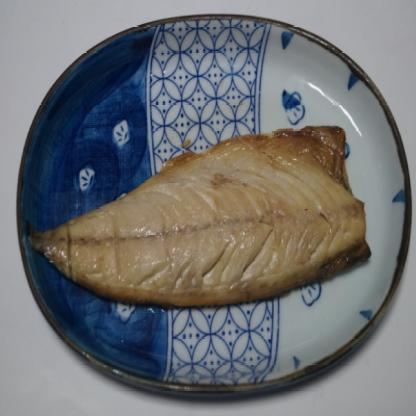Peixe: (10, 109, 386, 344)
